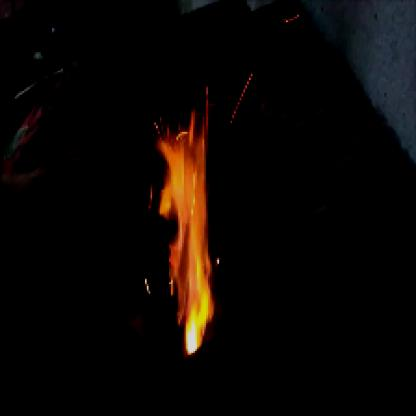Fire: (134, 80, 241, 358)
